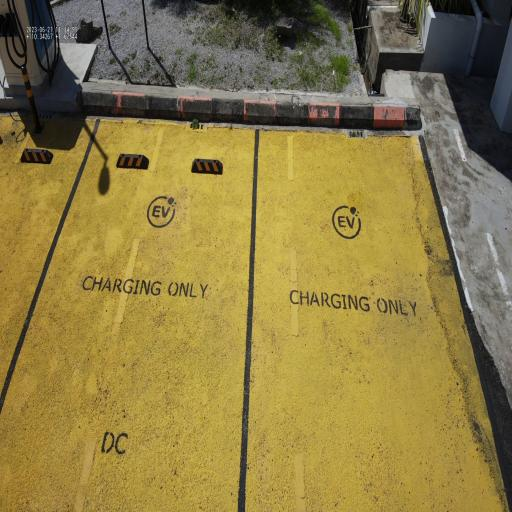Empty: (230, 111, 510, 512)
